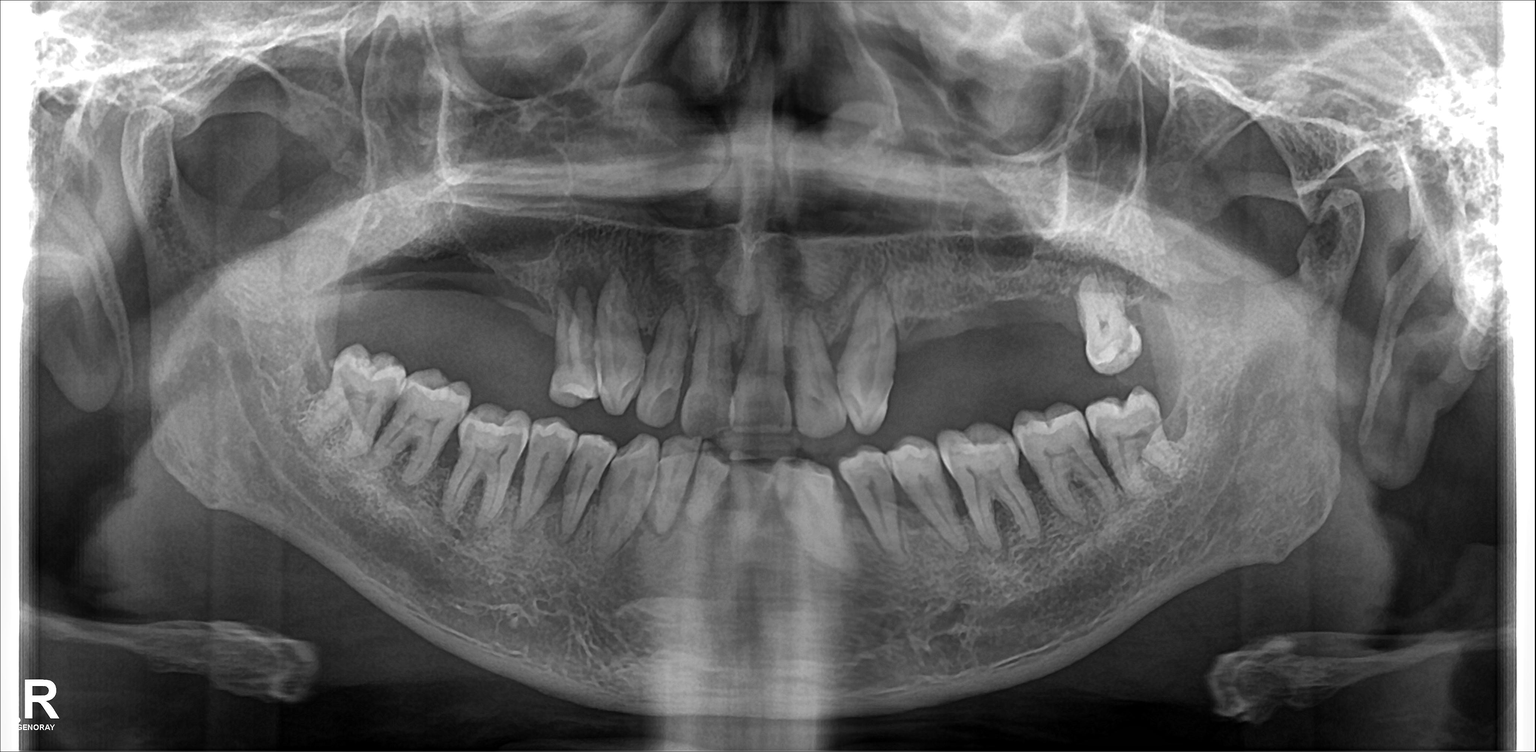Missing Tooth: (402, 238, 457, 349), (467, 236, 511, 364), (514, 248, 559, 371), (1035, 272, 1082, 378), (946, 285, 989, 393), (892, 296, 936, 401), (991, 283, 1032, 389), (350, 242, 395, 338)
